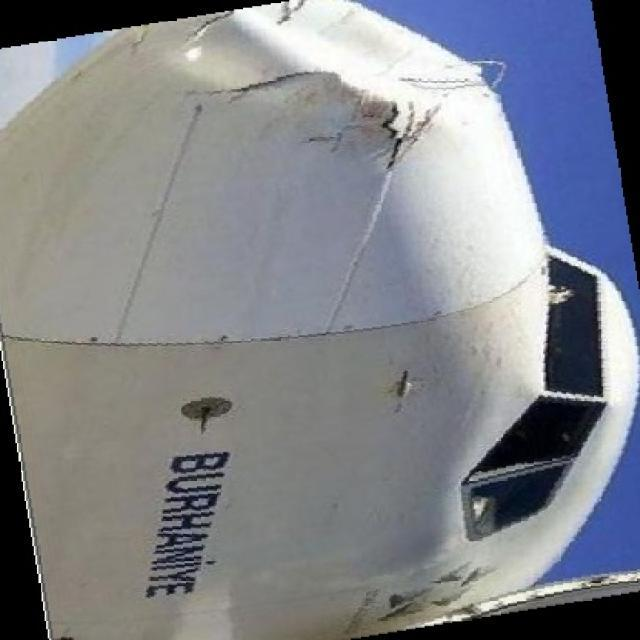dent: (270, 4, 495, 115)
